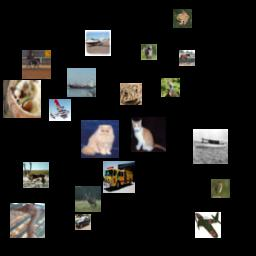airplane: (195, 212, 221, 238), (85, 30, 111, 56), (49, 99, 71, 121)
automobile: (75, 214, 91, 230)
bird: (10, 203, 45, 238), (161, 78, 180, 97), (211, 179, 230, 198)
cat: (81, 120, 119, 158), (131, 117, 166, 152)
deer: (75, 186, 101, 212), (23, 162, 49, 188)
dog: (3, 80, 41, 118), (141, 44, 157, 60)
frog: (120, 83, 142, 105), (173, 9, 192, 28)
ship: (193, 129, 228, 164), (67, 68, 96, 97)
truck: (103, 161, 135, 193)
